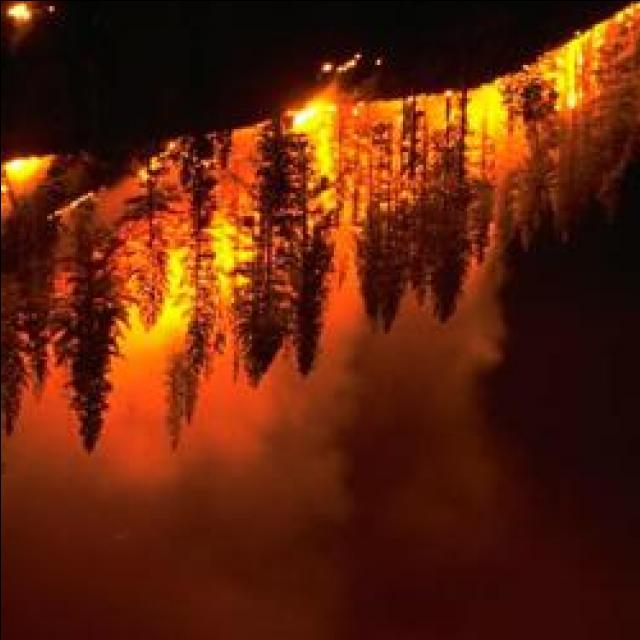fire: (114, 174, 268, 348), (534, 19, 636, 114), (0, 150, 55, 183), (469, 82, 507, 127)
smoke: (205, 406, 356, 528), (452, 256, 508, 374), (112, 366, 156, 480)
